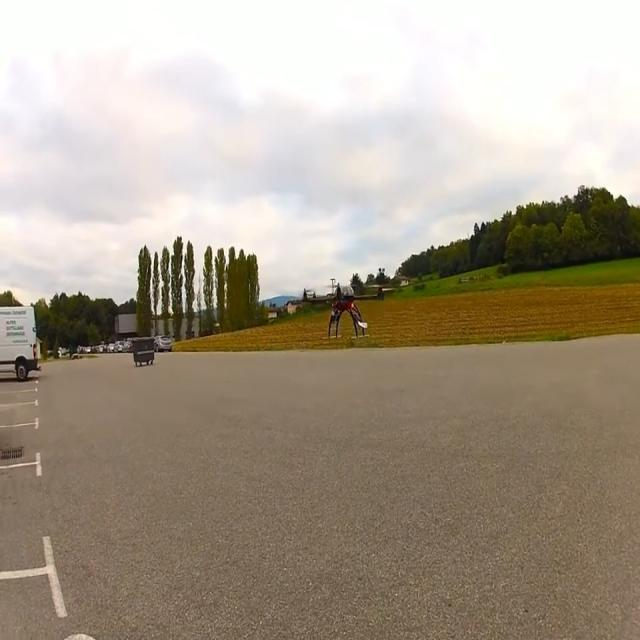drone: (296, 281, 395, 339)
